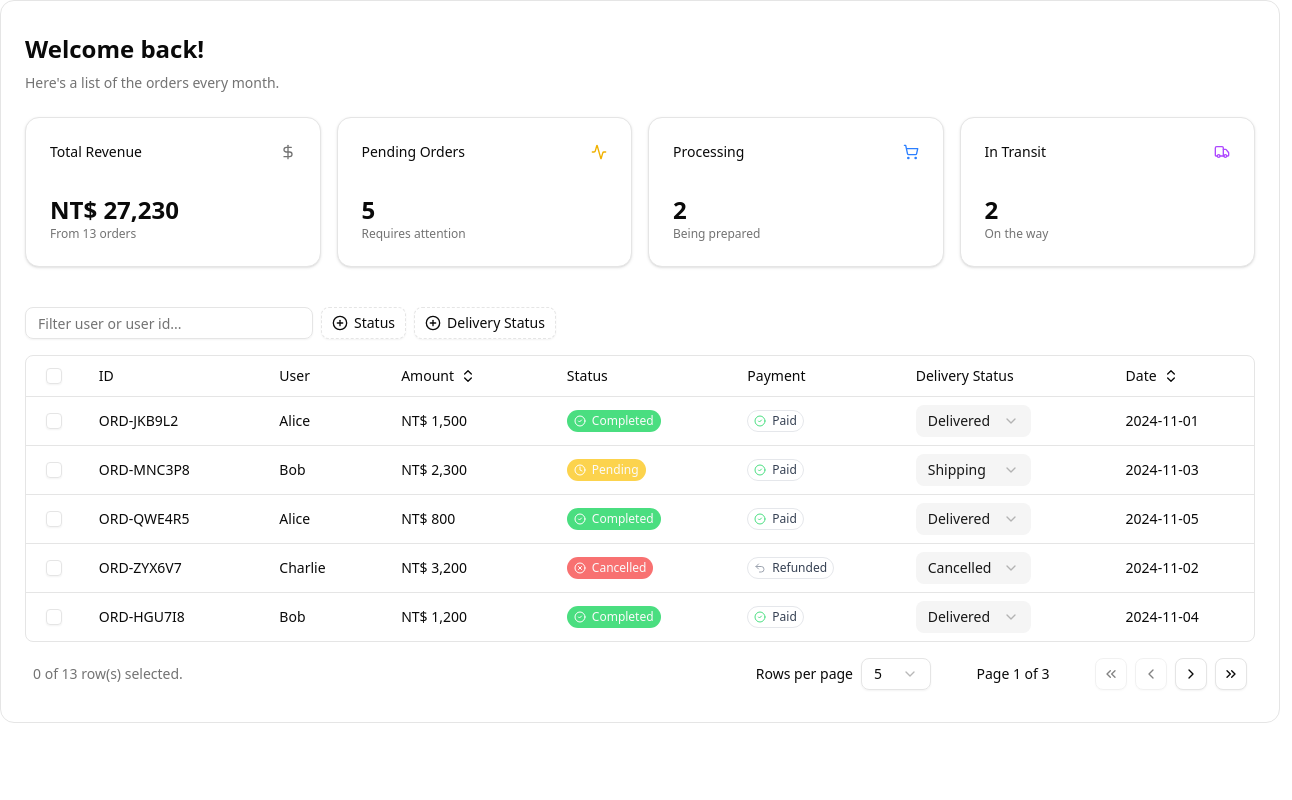
Test: OrderManagementServer › Search Functionality › shows no results message when search has no matches
expect the text "Date" is shown: met, box [1126,366,1157,386]
In the field with placeholder "Filter user or user id...": (169, 323) [25,307,313,339], type "NonExistentUser12345"
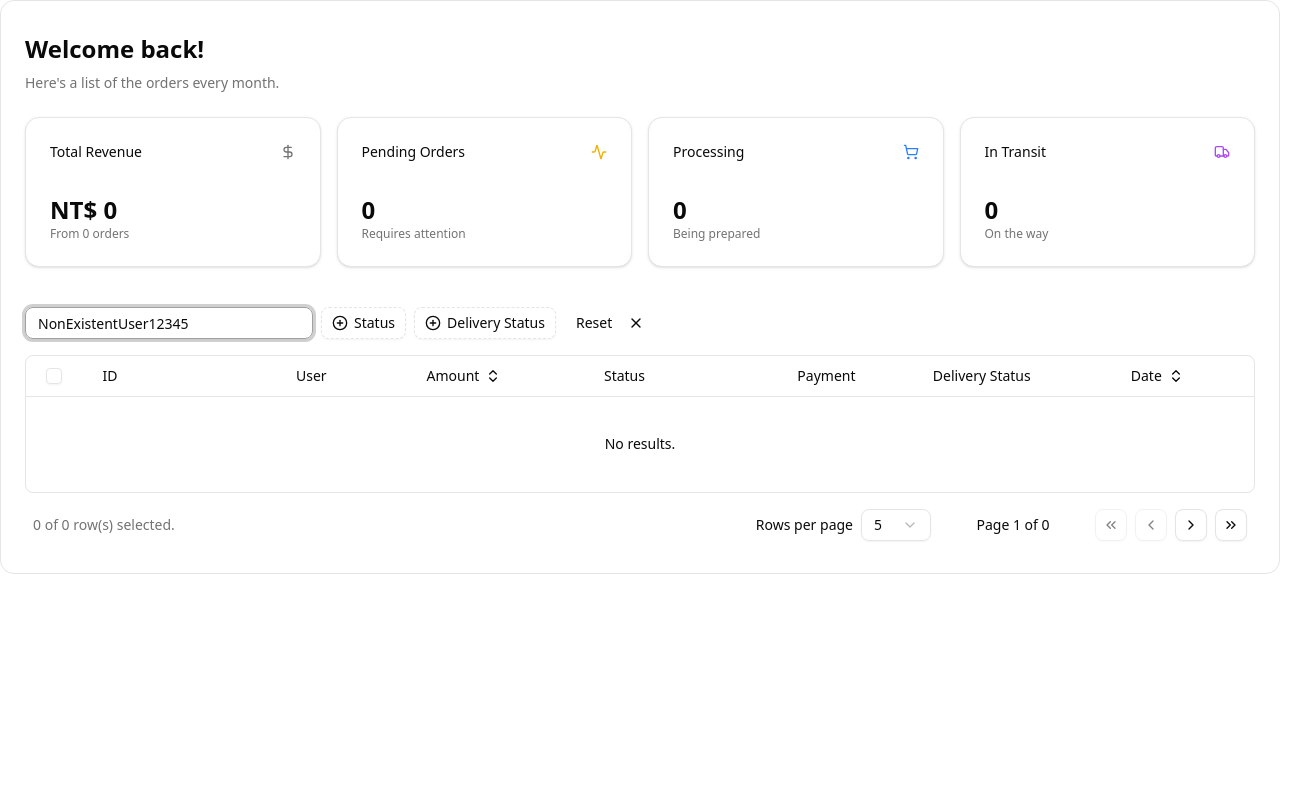
expect the text "No results." is shown: met, box [26,396,1254,492]
